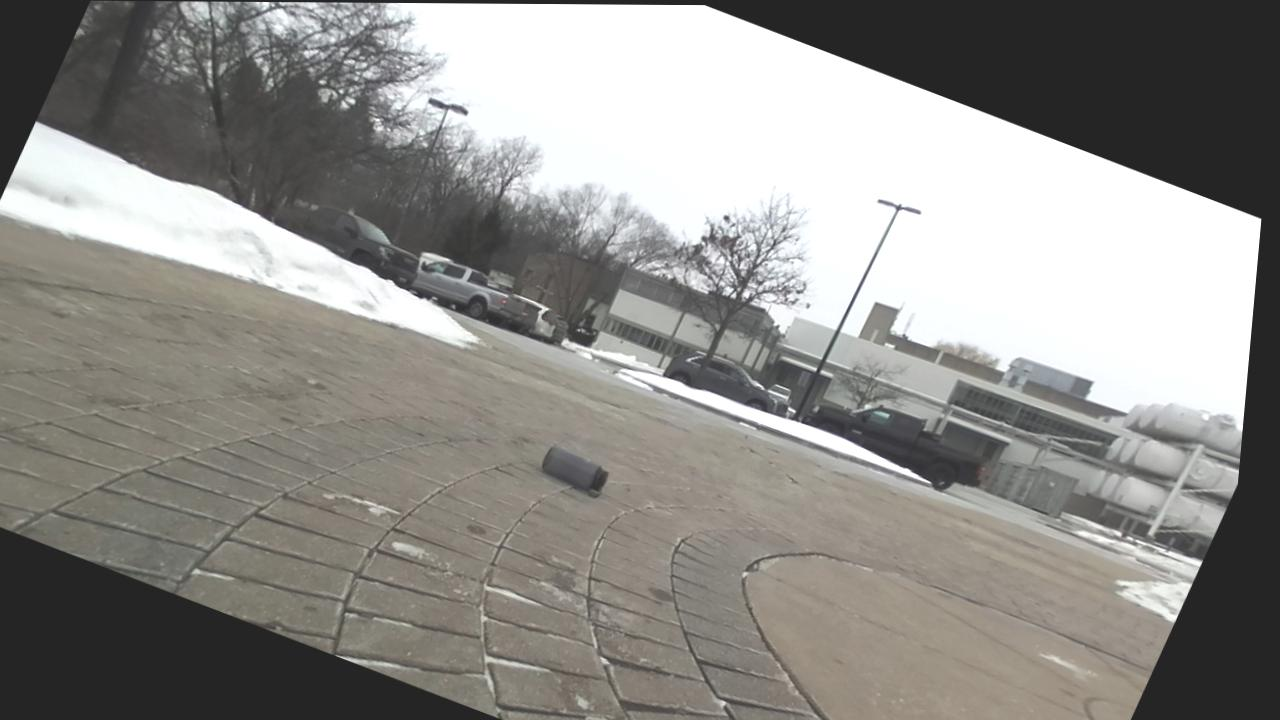bottle: (542, 445, 608, 496)
